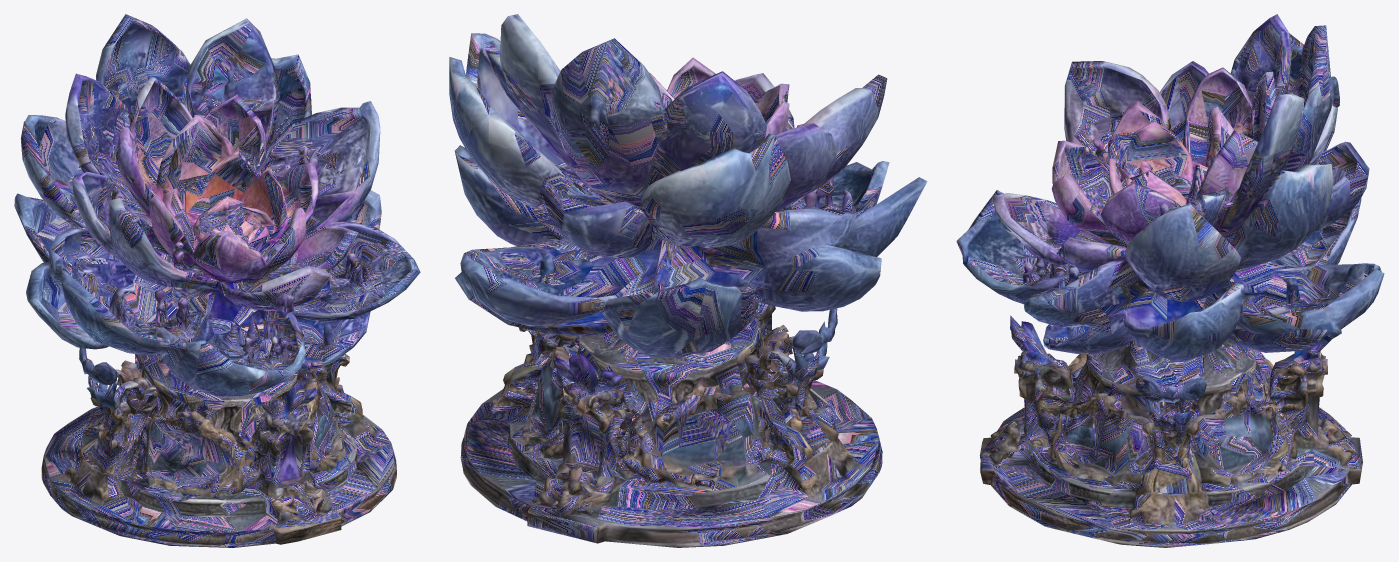
The model's file is Crystal_Lotus_of_Echo.glb.
The picture shows the model from 3 angles, left to right: view 1: azimuth 30°, elevation 25°; view 2: azimuth 150°, elevation 25°; view 3: azimuth 270°, elevation 25°; orthographic projection. The views are drawn at different scales.
Parts seen in each view (by area): view 1: Crystal_Lotus_of_Echo; view 2: Crystal_Lotus_of_Echo; view 3: Crystal_Lotus_of_Echo.
Part boxes in pixels (x1=…): Crystal_Lotus_of_Echo: x1=14, y1=14, x2=420, y2=547; Crystal_Lotus_of_Echo: x1=449, y1=14, x2=927, y2=547; Crystal_Lotus_of_Echo: x1=956, y1=14, x2=1384, y2=547.
Size of the model in its own units: 1.71 by 1.9 by 1.7.
Materials: 1 (1 with a texture image).
